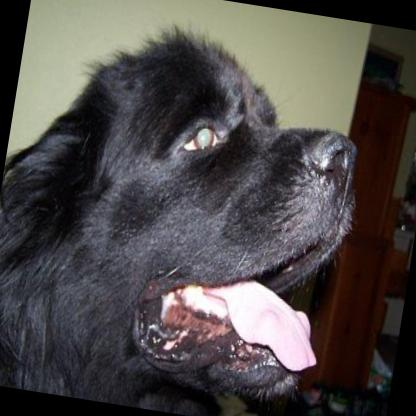Newfoundland: (0, 0, 383, 416)
